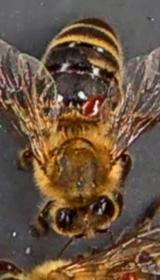varroa_mite: (75, 90, 110, 122)
